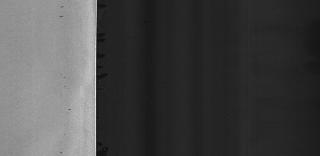oil spot: (57, 14, 69, 23), (66, 105, 76, 115), (60, 4, 70, 10)
silk spot: (0, 4, 44, 143)
